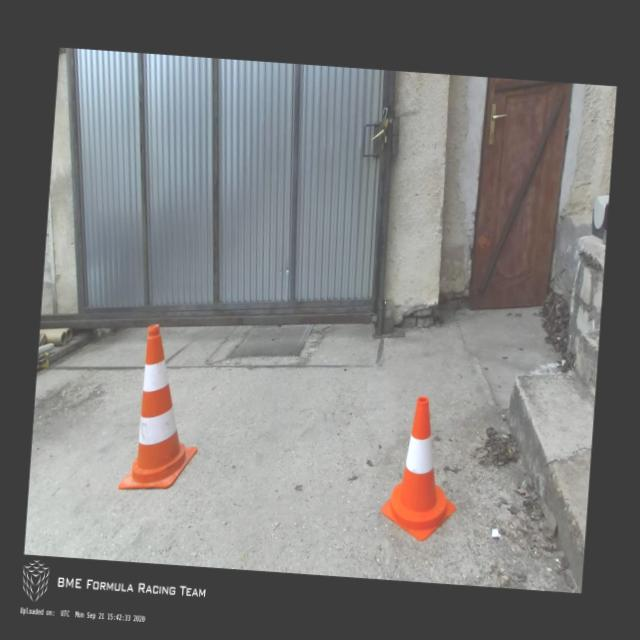large_orange_cone: (117, 321, 206, 495)
orange_cone: (379, 393, 464, 544)
